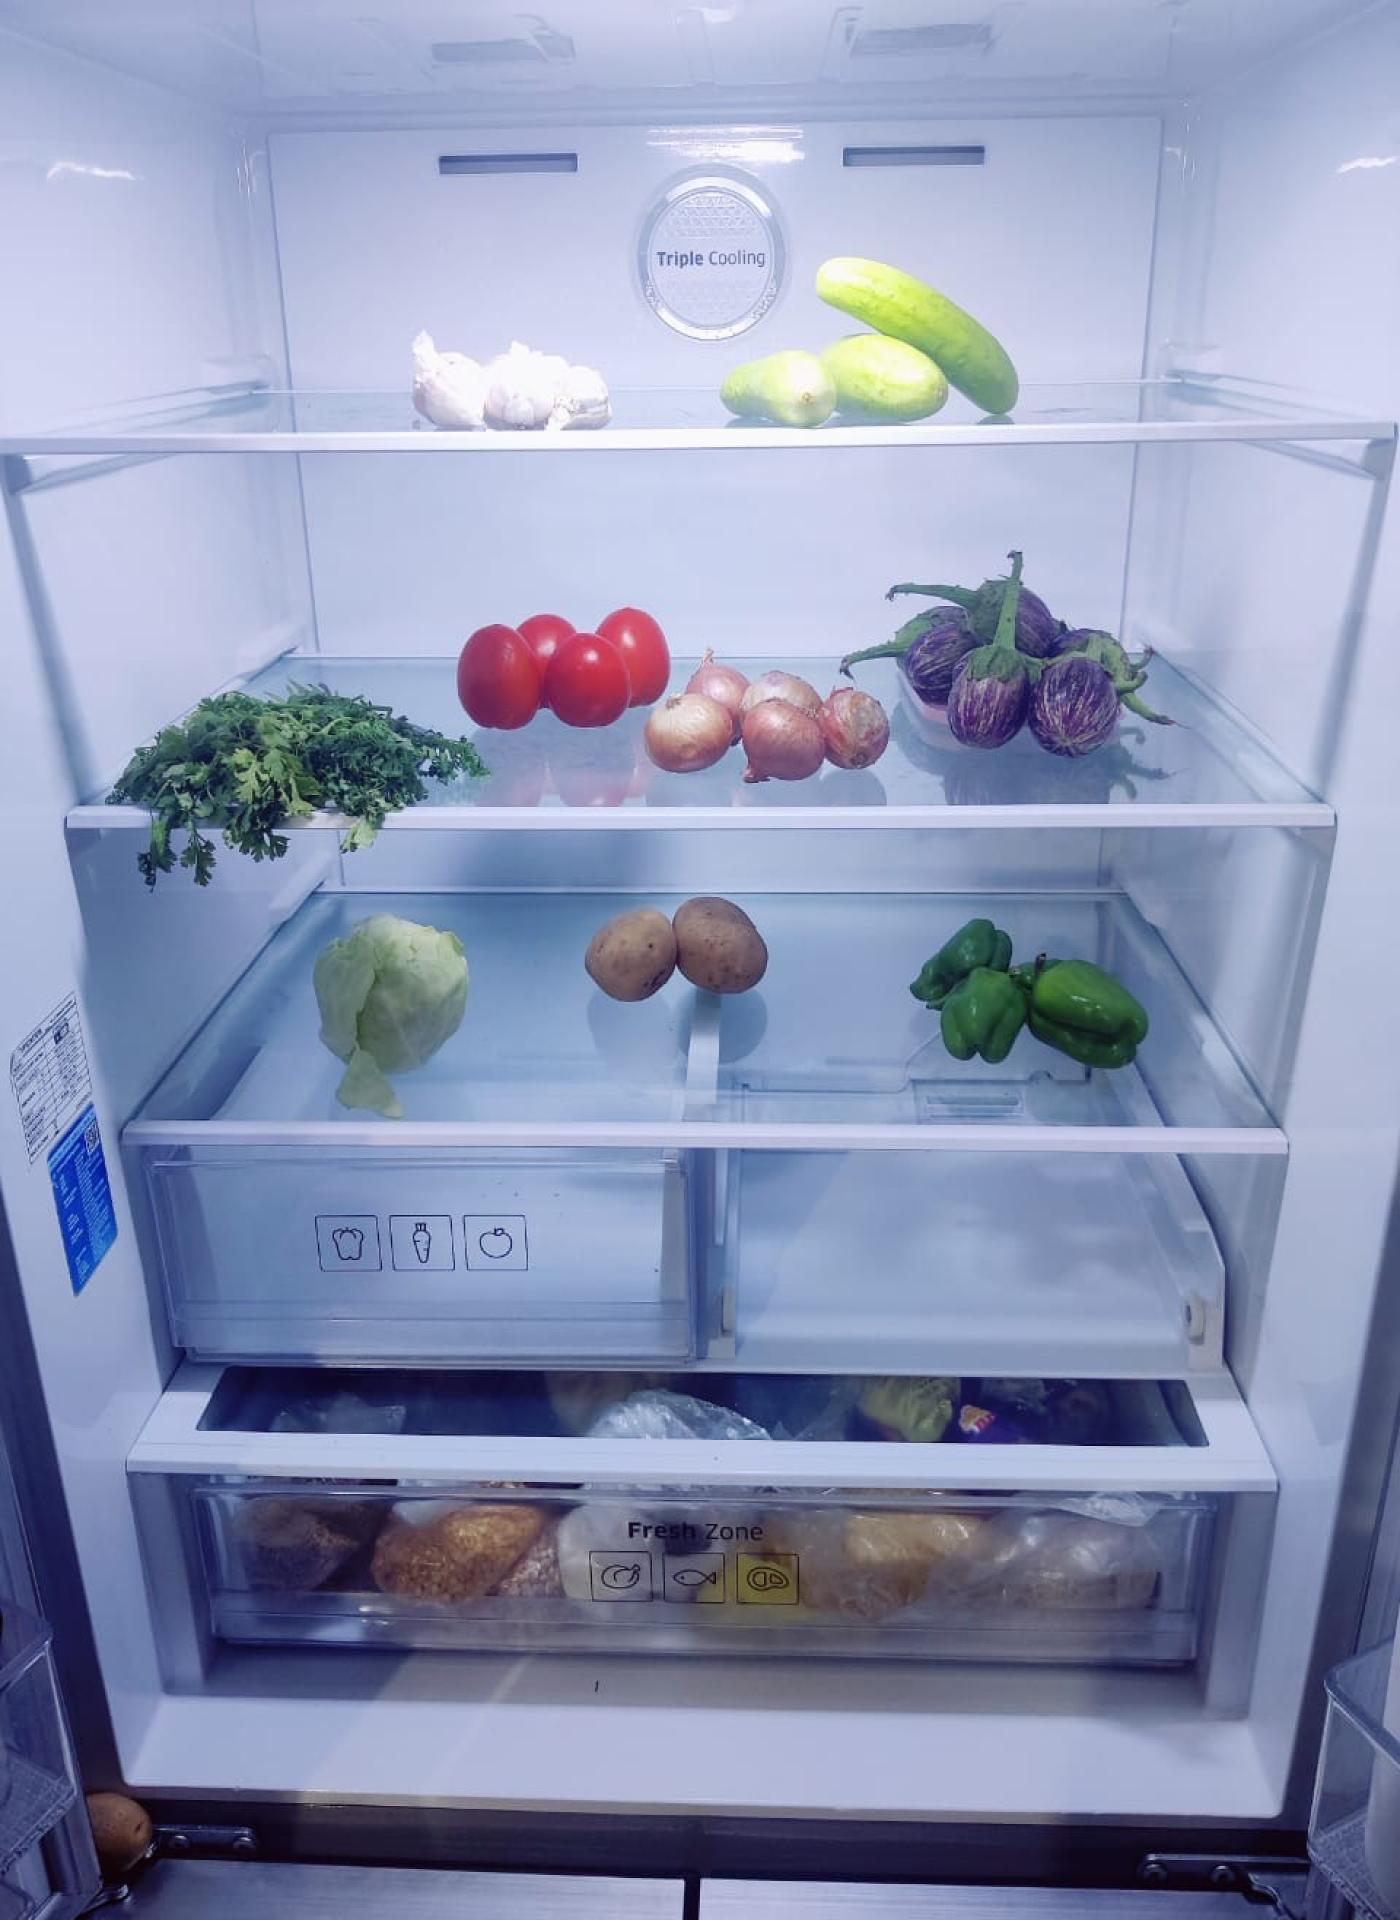brinjal: (908, 562, 1138, 753)
cabbage: (312, 909, 470, 1073)
capsicum: (909, 923, 1151, 1075)
coriander: (121, 684, 477, 845)
cucumber: (719, 253, 1027, 417)
garlic: (404, 325, 613, 429)
onion: (646, 650, 890, 774)
potato: (589, 899, 777, 1011)
tomato: (455, 607, 669, 729)
